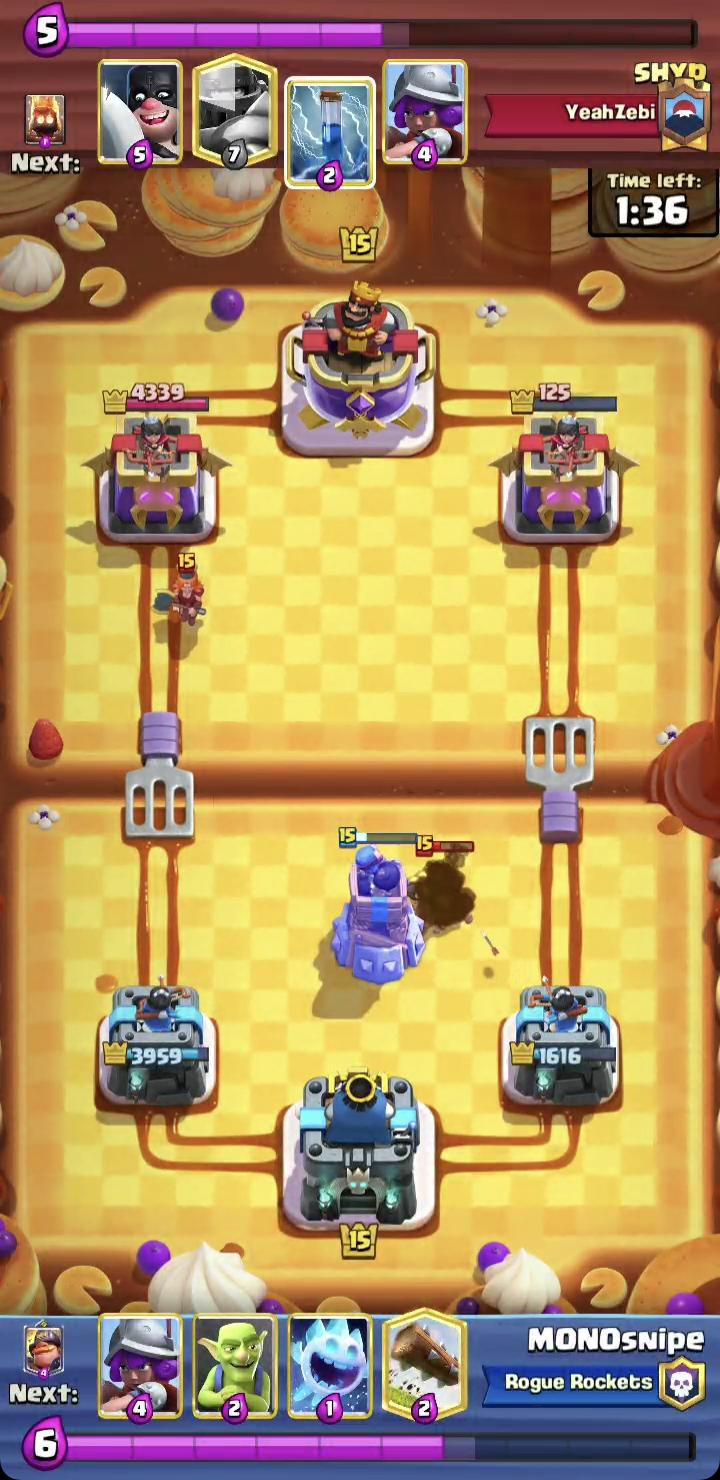ally_bombtower: (330, 826, 427, 985)
enemy_hog: (403, 836, 477, 937)
enemy_valkyrie: (152, 553, 209, 630)
